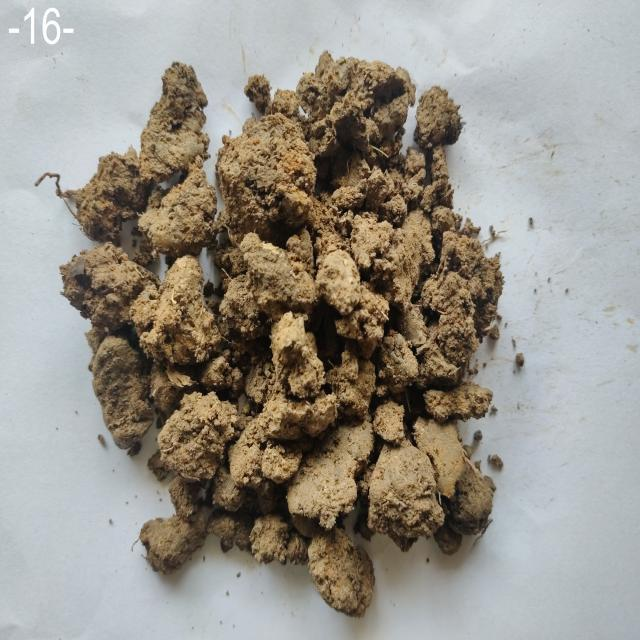soil: (182, 170, 412, 486)
